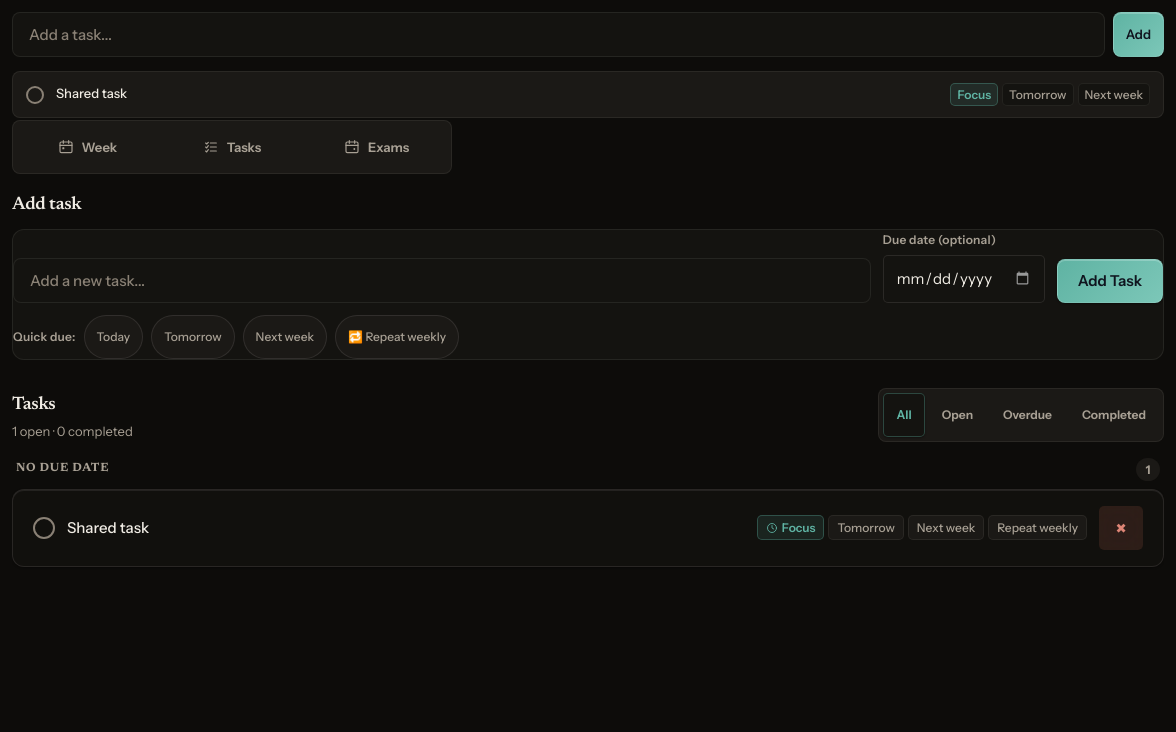
Test: DashboardTasksWidget › completing a task in the widget updates the full list too
Expected: the text "Shared task" is shown 2 times, [56, 85, 127, 101]; [67, 518, 149, 537]
Click the checkbox labelled "Shared task Focus Tomorrow Next week". click: (588, 94)
box: [12, 71, 1164, 118]
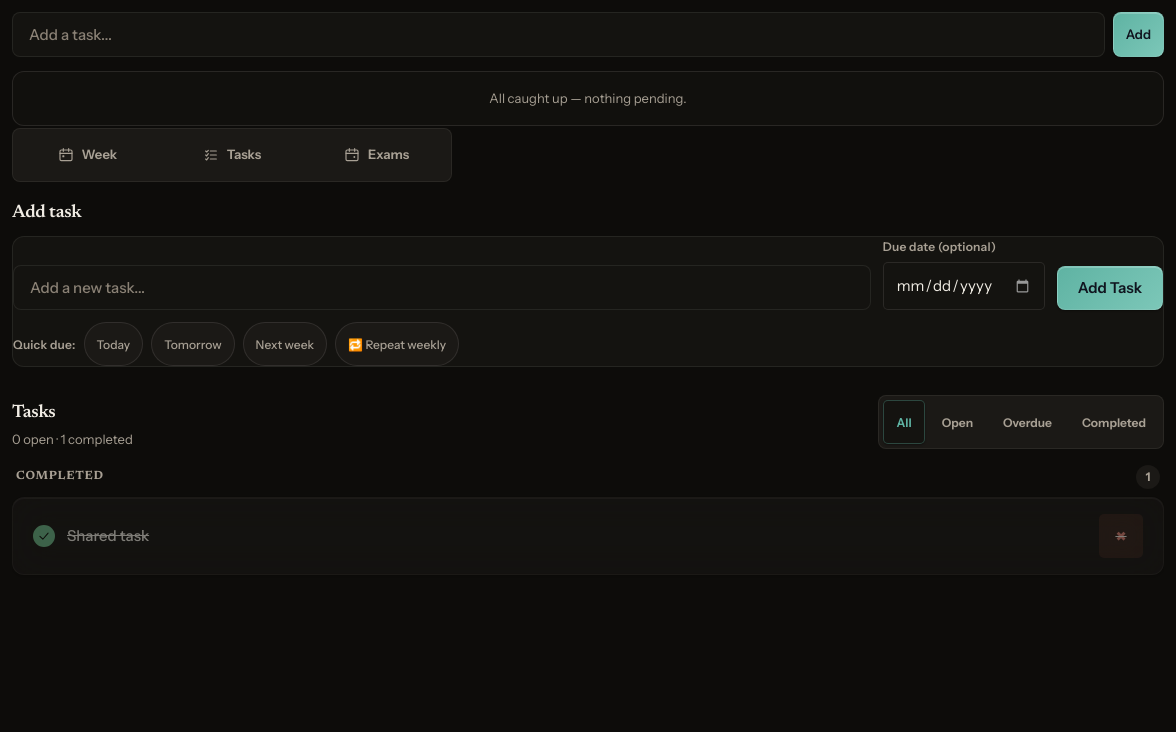
Expected: the checkbox labelled "Shared task" is shown, [12, 497, 1164, 575]
Expected: the list item "All caught up — nothing pending." is shown, [12, 71, 1164, 126]
